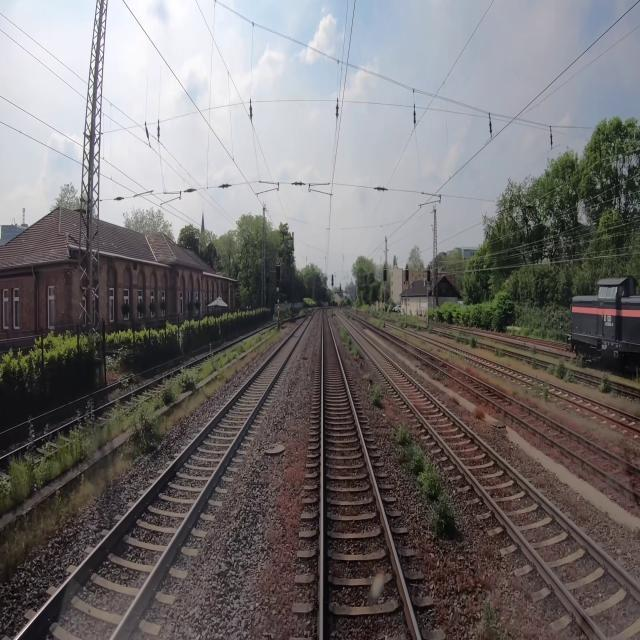Plant: (0, 330, 279, 578), (0, 332, 265, 514), (393, 420, 455, 539), (338, 325, 364, 359), (482, 601, 501, 638), (547, 360, 576, 383), (369, 382, 383, 408), (533, 383, 550, 401), (599, 374, 610, 395), (473, 404, 485, 420), (531, 356, 538, 368), (470, 337, 477, 348), (530, 345, 538, 354), (494, 349, 504, 356), (427, 327, 432, 334), (456, 335, 460, 342), (417, 324, 421, 331)
